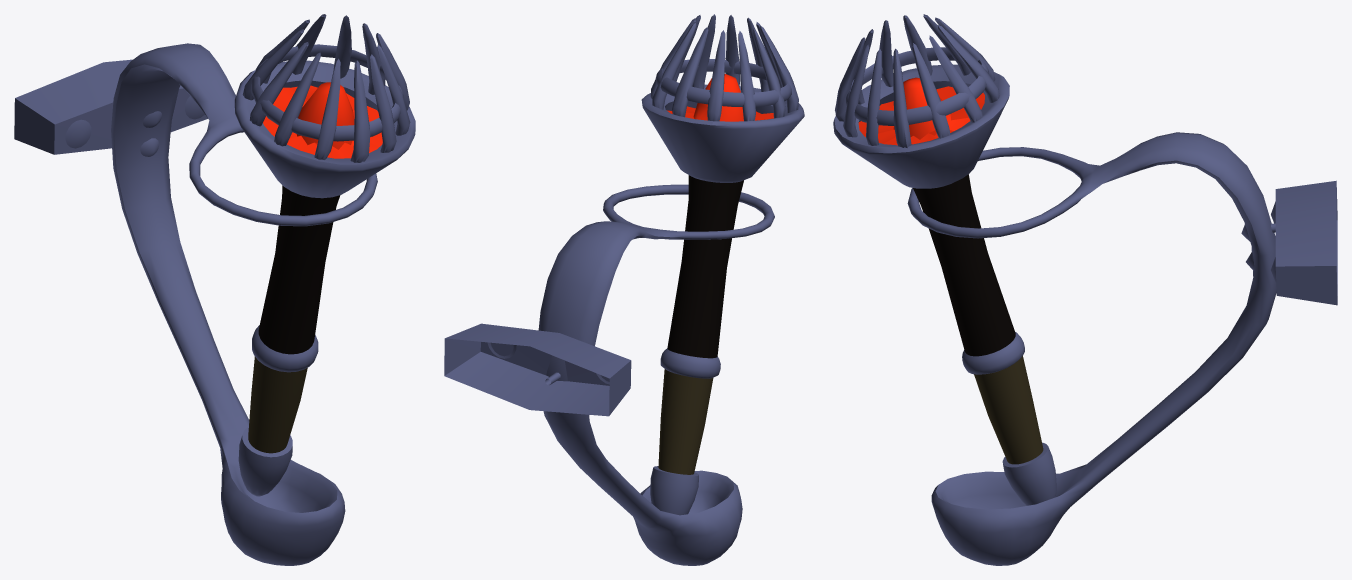
File: TorchWall_4.fbx
3 renders of one model, left to right at view 1: azimuth 30°, elevation 25°; view 2: azimuth 150°, elevation 25°; view 3: azimuth 270°, elevation 25°, orthographic. The views are drawn at different scales.
Parts seen in each view (by area): view 1: TorchWall_4; view 2: TorchWall_4; view 3: TorchWall_4.
Boxes of the visible parts, <box> form: TorchWall_4: <box>14,14,415,565</box>; TorchWall_4: <box>444,14,804,565</box>; TorchWall_4: <box>833,14,1337,565</box>.
Size of the model in its own units: 17.97 by 45 by 53.07.
